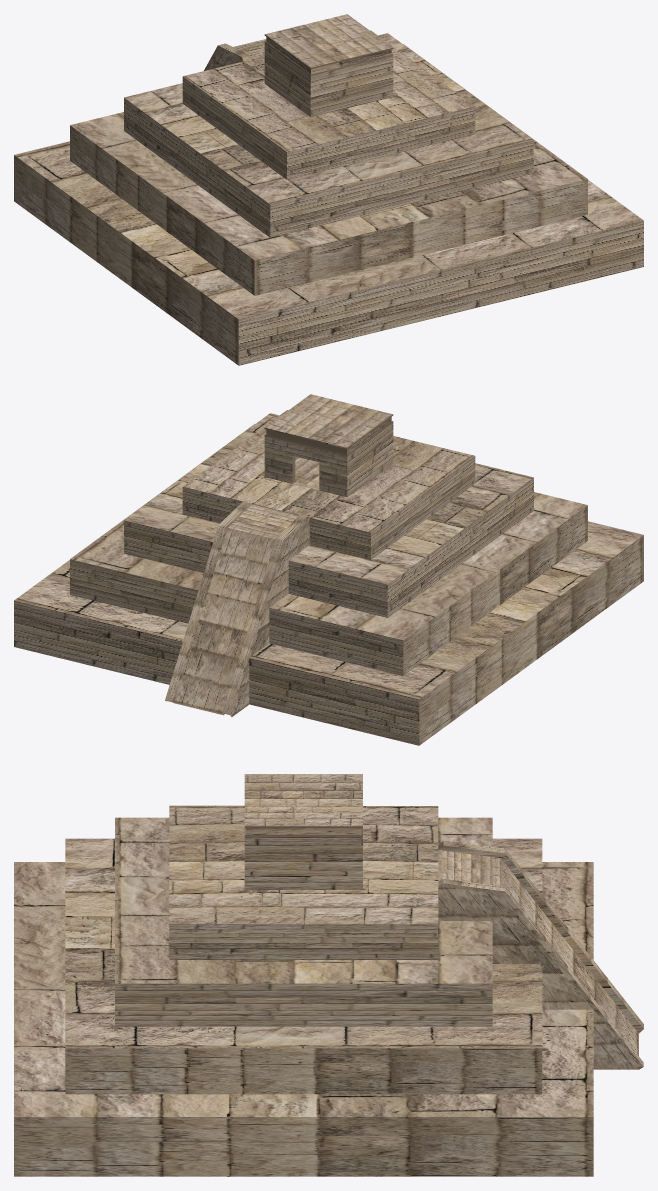
File: templo2.fbx
The picture shows the model from 3 angles, top to bottom: view 1: azimuth 30°, elevation 25°; view 2: azimuth 150°, elevation 25°; view 3: azimuth 270°, elevation 25°; orthographic projection. The views are drawn at different scales.
Parts seen in each view (by area): view 1: Cube; view 2: Cube; view 3: Cube.
Boxes of the visible parts, x1,y1,x2,y2 form: Cube: (14, 14, 643, 365); Cube: (14, 394, 643, 745); Cube: (14, 774, 643, 1176).
Size of the model in its own units: 3220 by 1467 by 3362.
